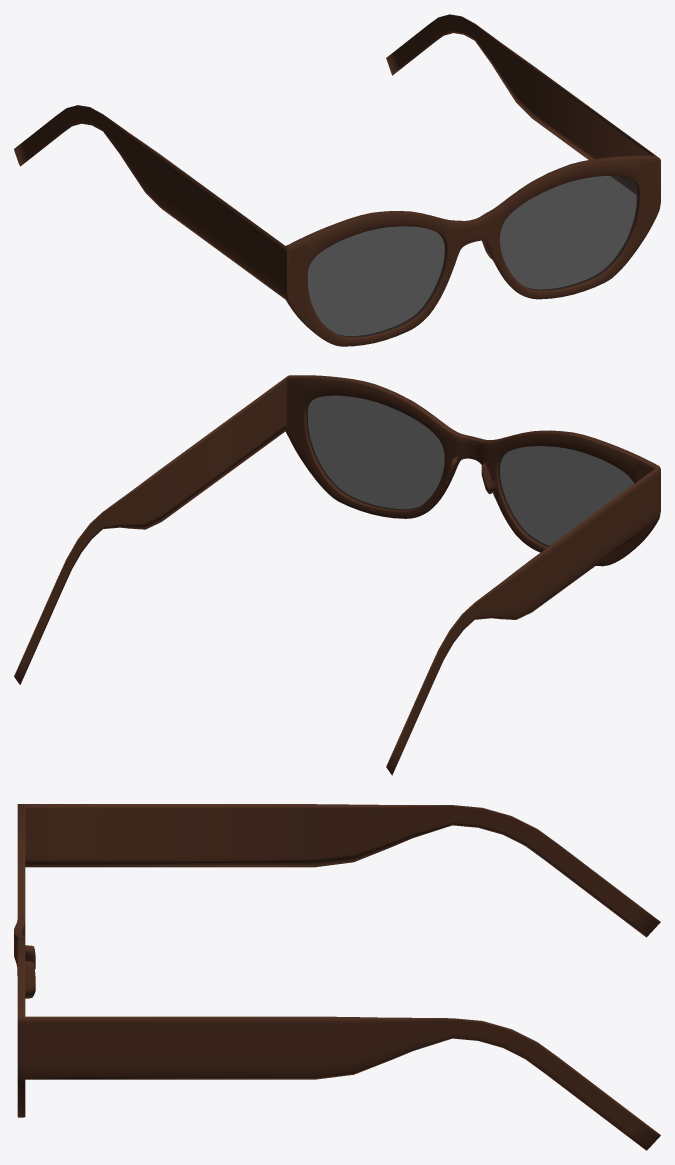
The picture shows the model from 3 angles, top to bottom: view 1: azimuth 30°, elevation 25°; view 2: azimuth 150°, elevation 25°; view 3: azimuth 270°, elevation 25°; orthographic projection. The views are drawn at different scales.
Parts seen in each view (by area): view 1: f19; view 2: f19; view 3: f19.
Boxes of the visible parts, x1=… form: f19: x1=14, y1=14, x2=660, y2=346; f19: x1=14, y1=375, x2=660, y2=775; f19: x1=14, y1=804, x2=660, y2=1150.
Bounding box in the file's own units: 14.13 × 4.63 × 18.
